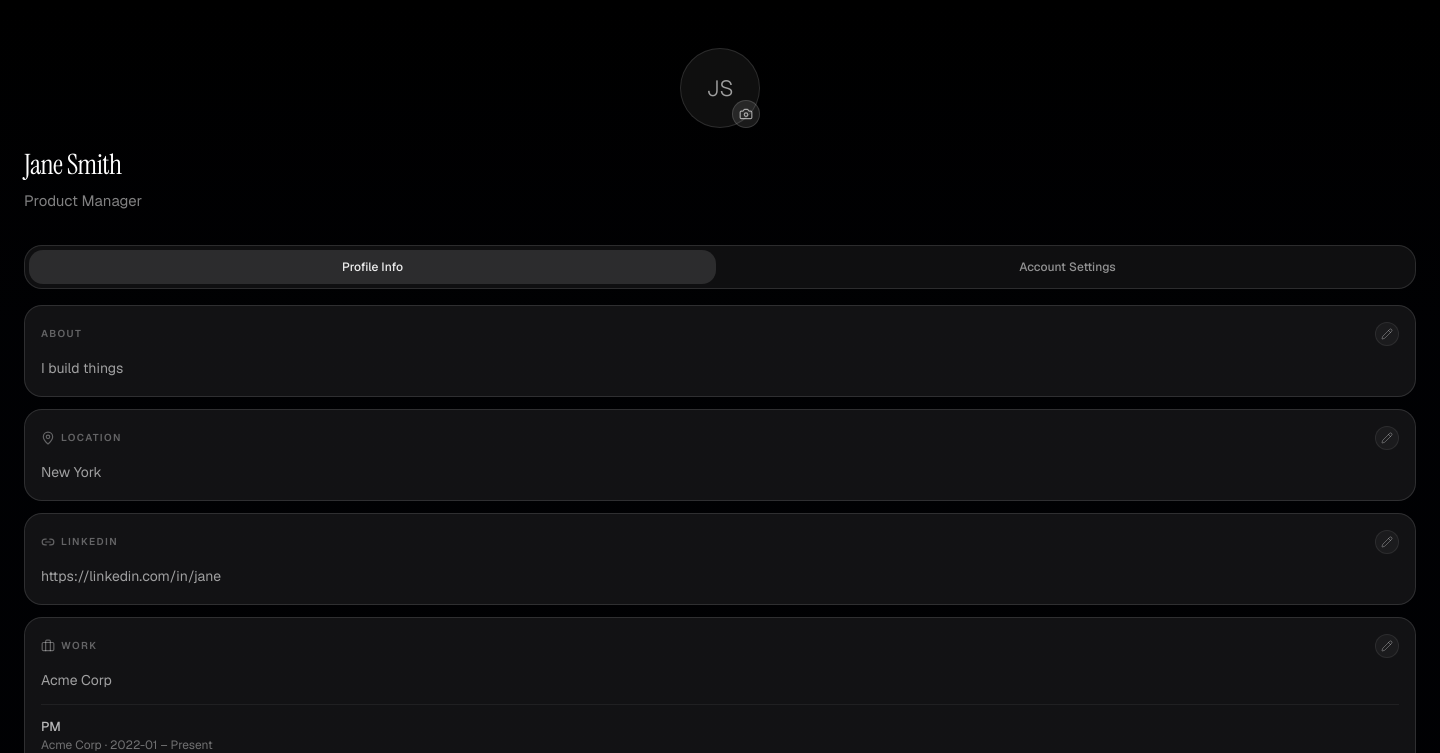
Test: ProfilePage › shows sign out confirmation when clicked
This screenshot has width=1440, height=753.
Click the button "Account Settings" at (1068, 266), box [724, 250, 1411, 284]
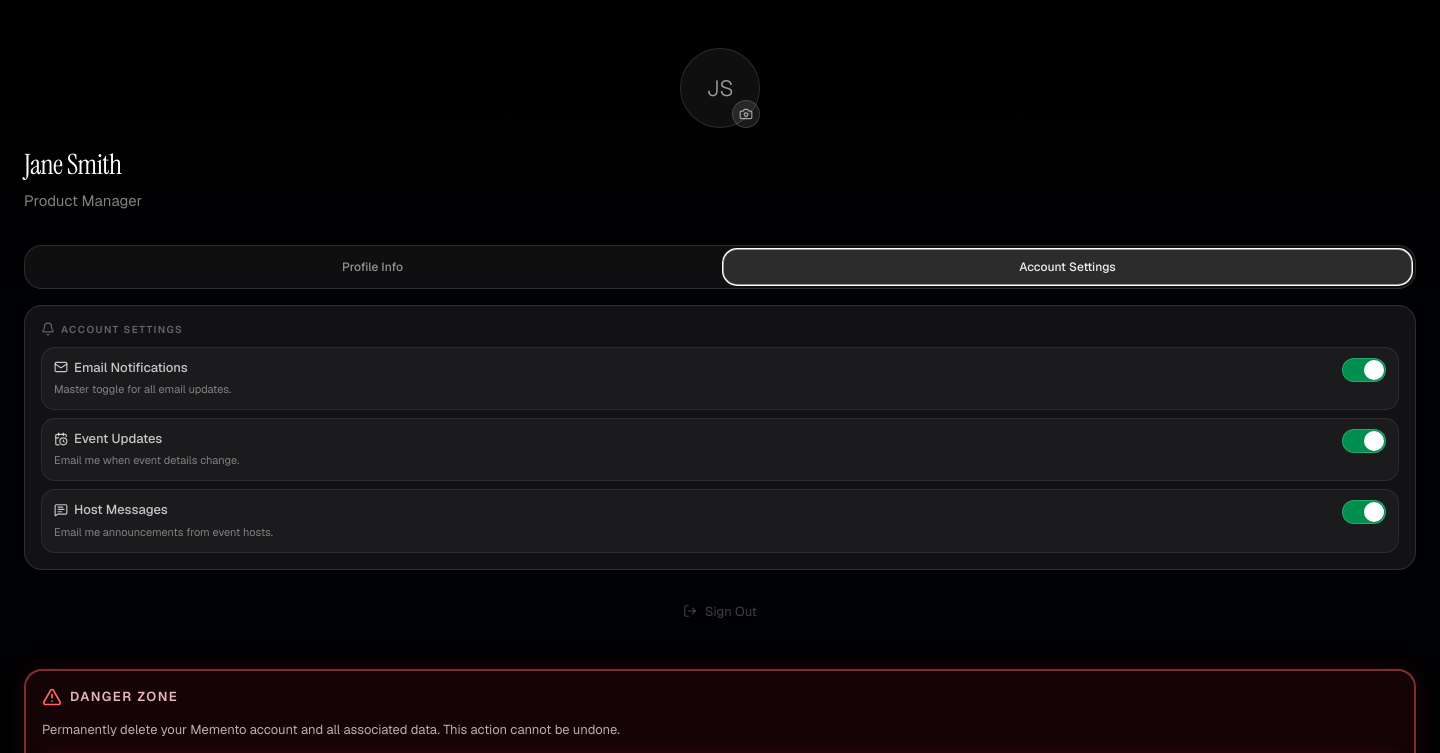
Click the button "Sign Out" at (720, 611), box [24, 594, 1416, 629]
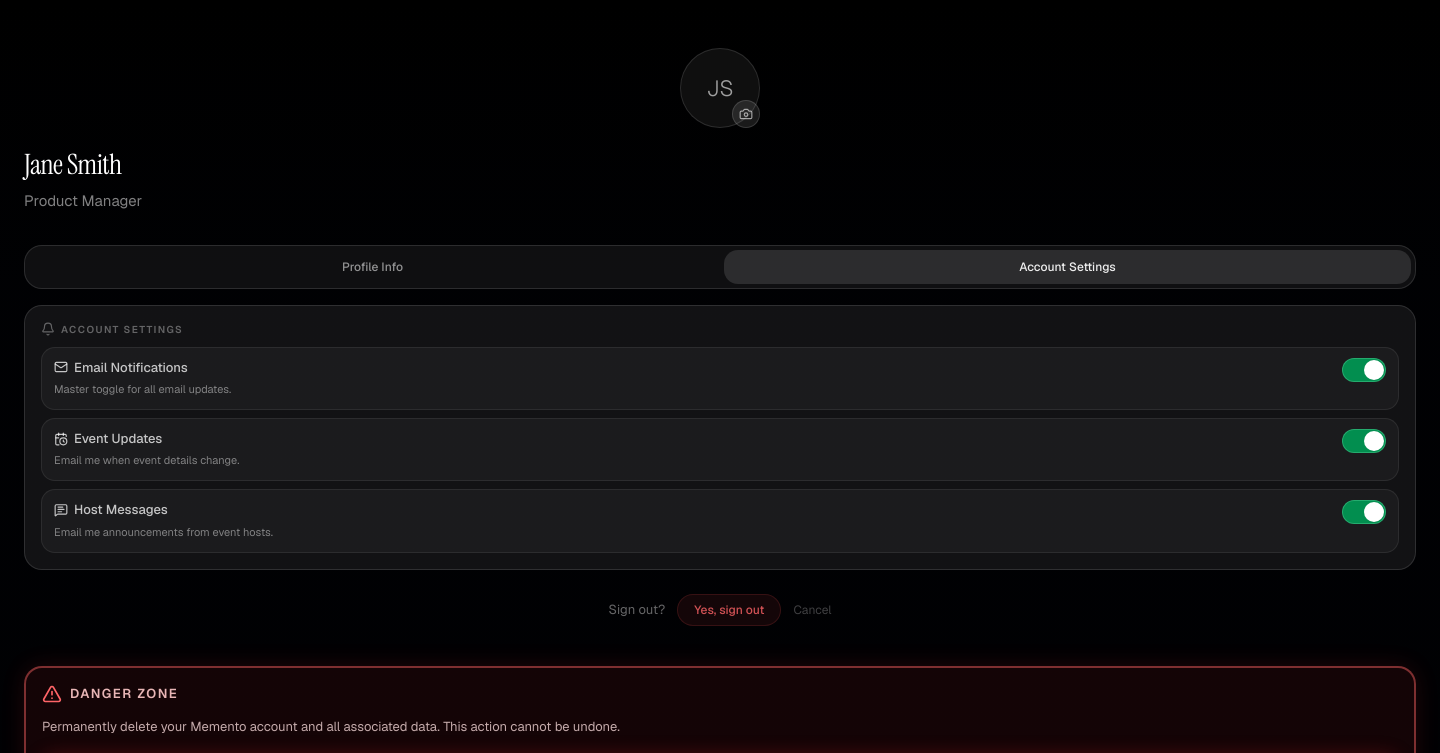
Expected: the button "Yes, sign out" is shown, [677, 594, 782, 626]
Expected: the button "Cancel" is shown, [794, 601, 832, 619]
